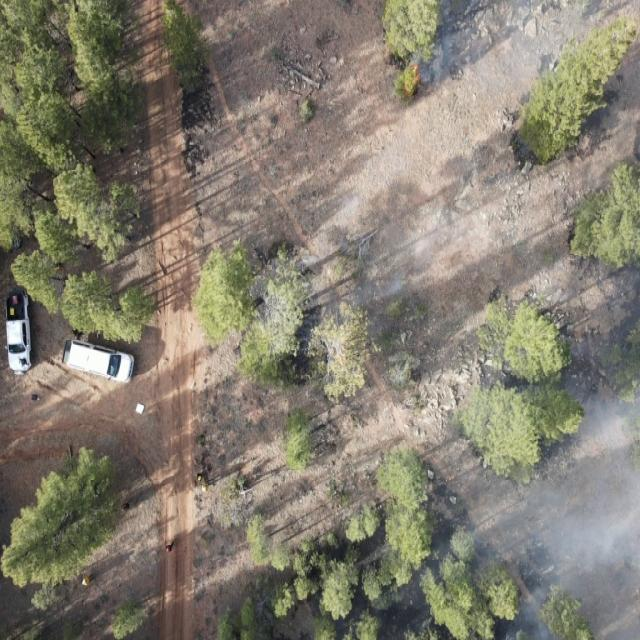fire: (400, 58, 426, 104)
smoke: (387, 477, 640, 640), (474, 332, 640, 477), (264, 234, 419, 377), (410, 0, 588, 78), (610, 265, 640, 331)
